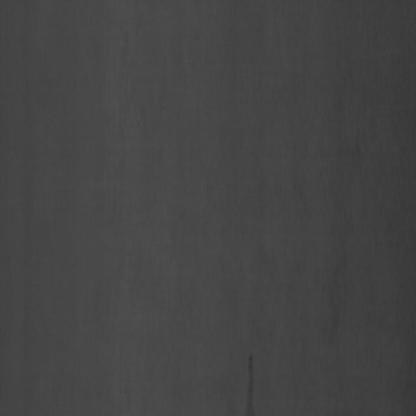water_spot: (239, 328, 276, 416)
